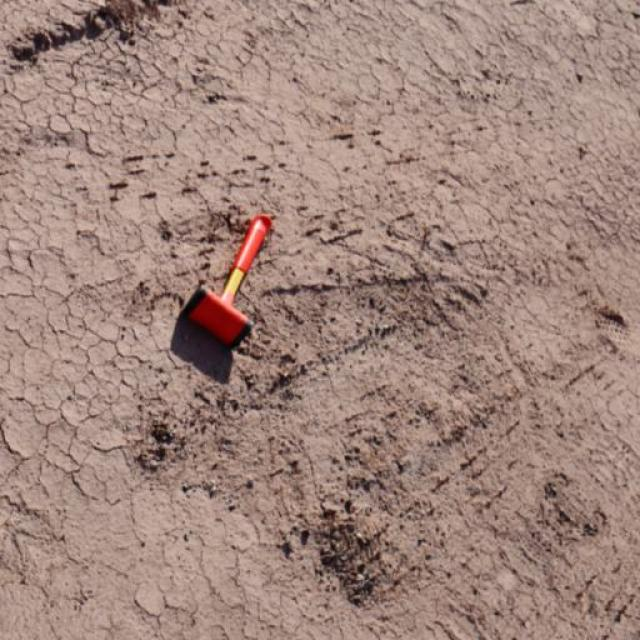mallet: (178, 211, 274, 349)
